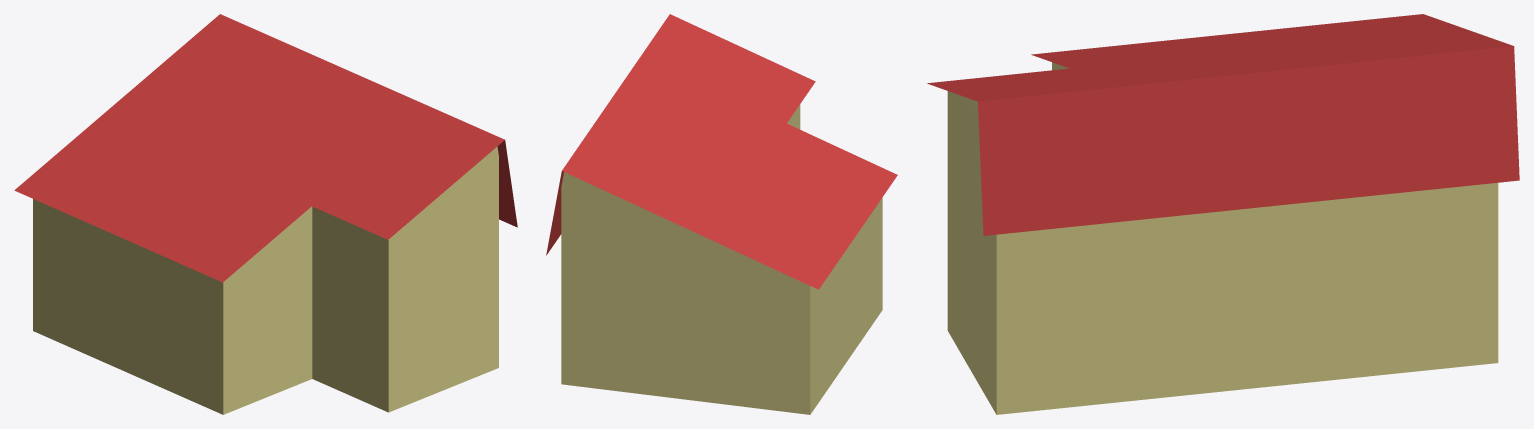
3 renders of one model, left to right at view 1: azimuth 30°, elevation 25°; view 2: azimuth 150°, elevation 25°; view 3: azimuth 270°, elevation 25°, orthographic. The views are drawn at different scales.
Bounding box in the file's own units: 14.77 × 16.69 × 9.71.
